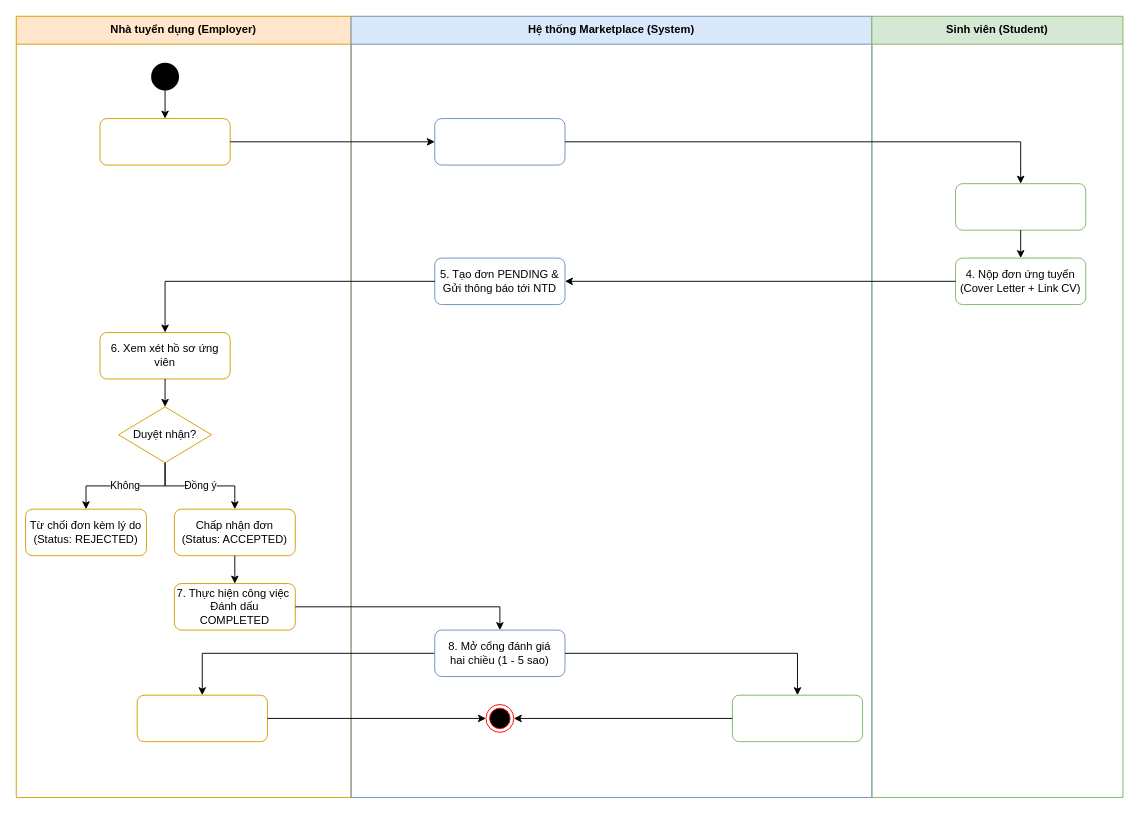
Image size: 1139x814. Some labels were removed from this diagram. Each missing label, with the centre of its shape:
1. Điền thông tin & Đăng tin tuyển dụng: point 164,141
10. NTD đánh giá SV (Chất lượng, đúng hạn): point 201,718
2. Lưu CSDL & Hiển thị tin ở trạng thái OPEN: point 499,141
3. Tìm kiếm & Lọc việc Xem chi tiết tin: point 1020,206
9. SV đánh giá NTD (Thái độ, thanh toán): point 797,718
